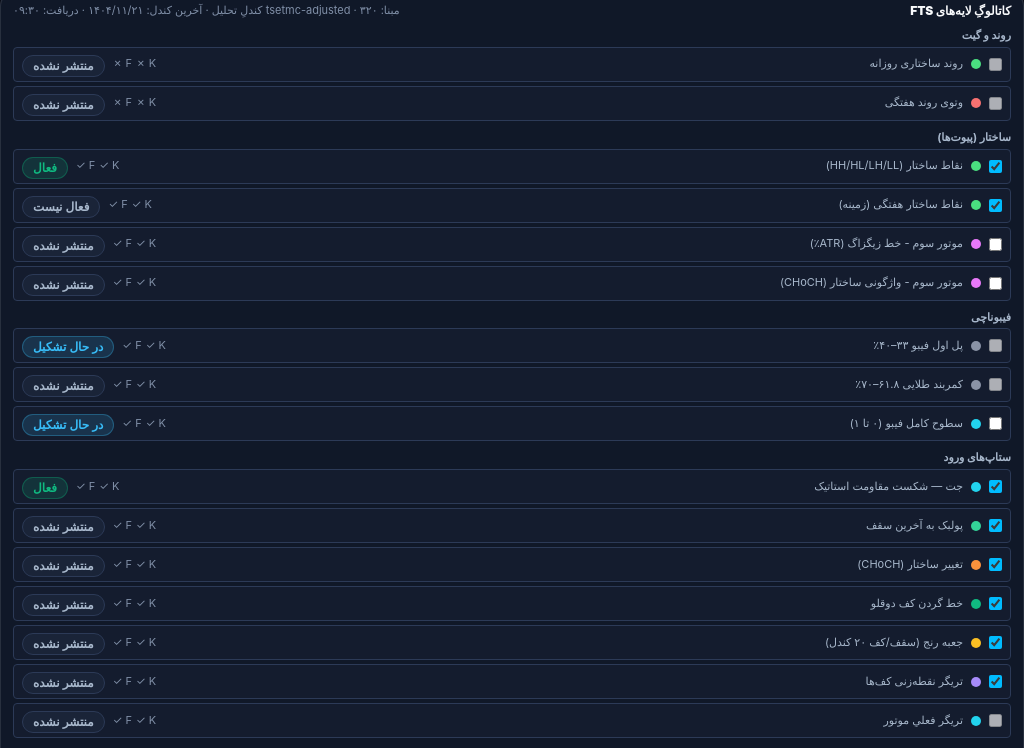
Test: پنلِ کاتالوگِ لایه‌ها › کلیکِ شواهد: قاعده → خروجیِ الگوریتم → انوتیشن با زمانِ تأیید
Click the button with test id "fts-layer-evidence-btn-structure-points" at coordinates (865, 165), box [128,159,963,173]
(page scrolled)
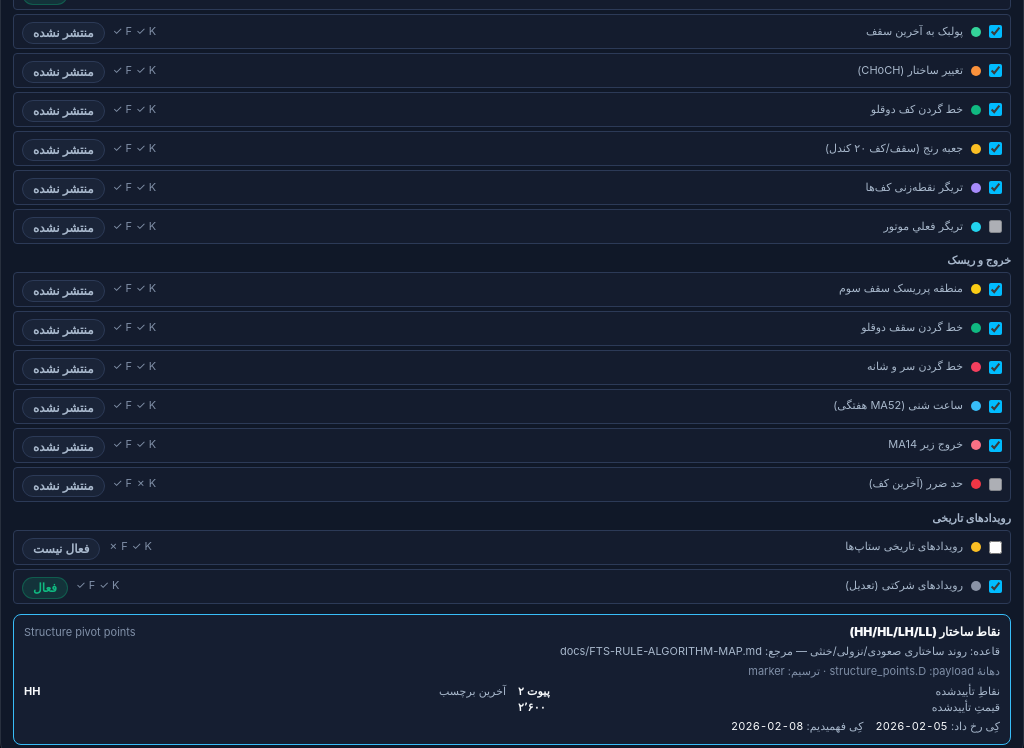
Expected: the text with test id "fts-evidence-rule" shows "روند ساختاری صعودی/نزولی/خنثی", [810,644,967,658]
Expected: the element with test id "fts-evidence-source" shows "structure_points.D", [829,664,926,678]
Expected: the element with test id "fts-evidence-times" shows "2026-02-05", [875,719,948,733]
